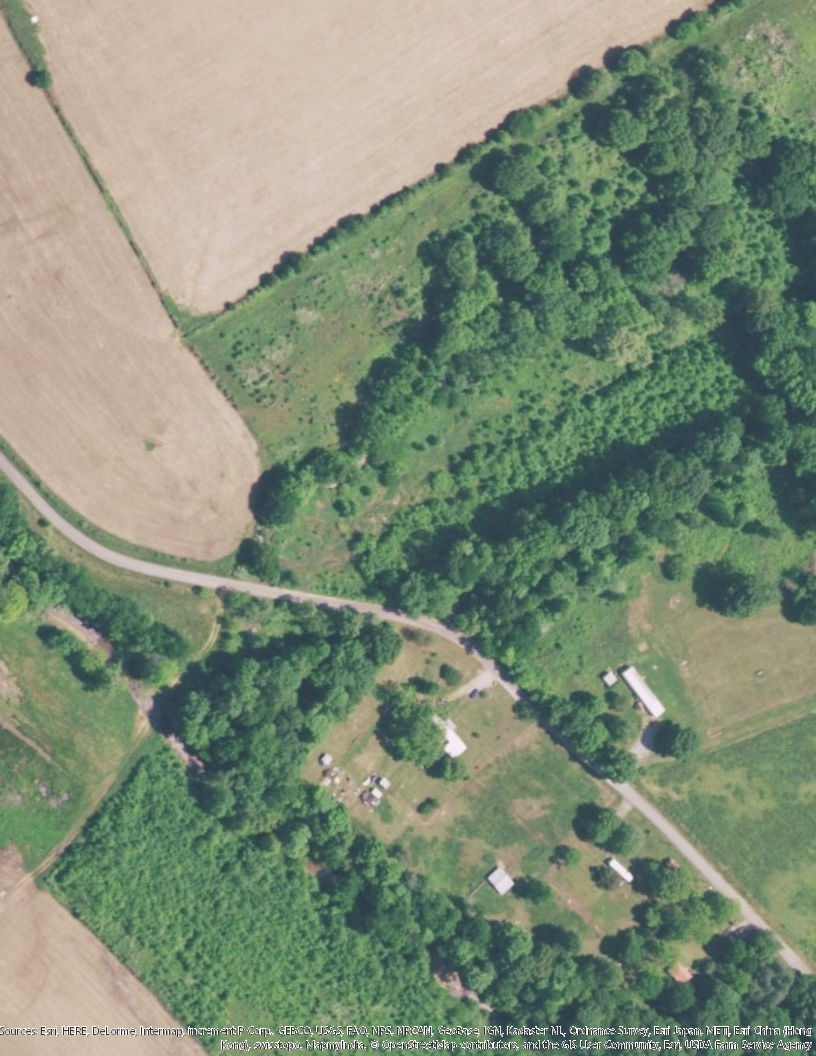cafo: (616, 663, 668, 721)
